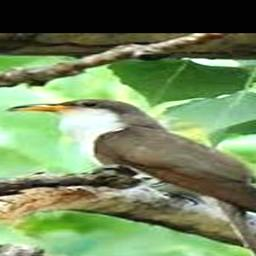Cuckoo: (4, 99, 256, 256)
